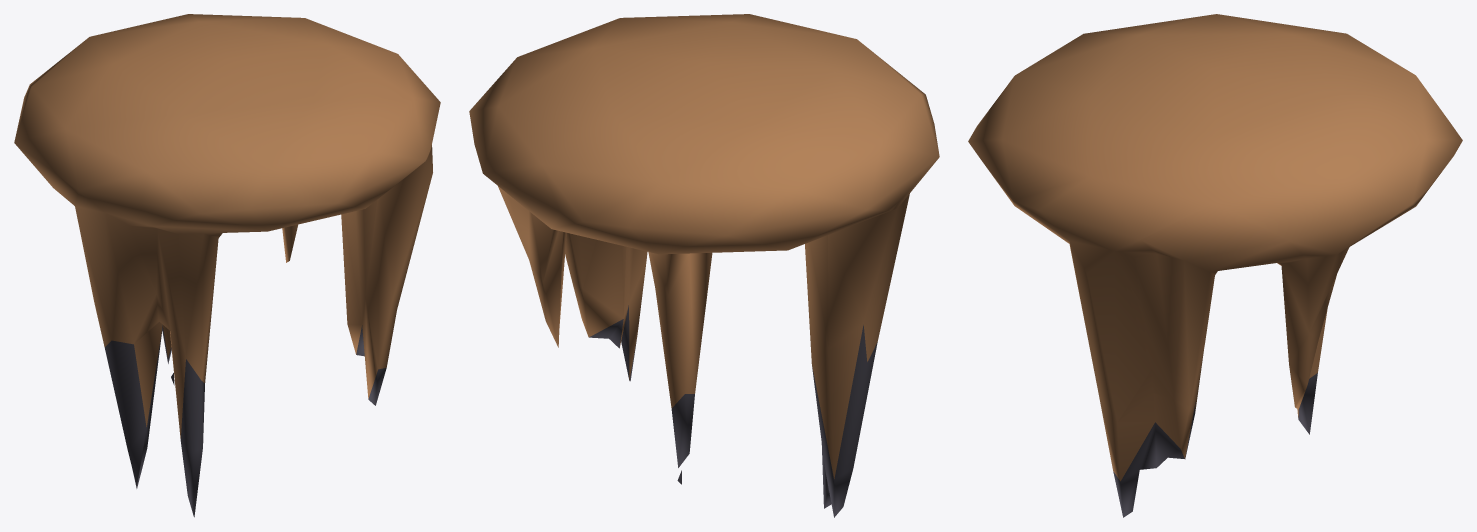
File: shore_stalactite_lod2.glb
The picture shows the model from 3 angles, left to right: view 1: azimuth 30°, elevation 25°; view 2: azimuth 150°, elevation 25°; view 3: azimuth 270°, elevation 25°; orthographic projection. The views are drawn at different scales.
Visible parts, largest first — view 1: shore_stalactite.001; view 2: shore_stalactite.001; view 3: shore_stalactite.001.
Part boxes in pixels (x1,y1,x2,y2): shore_stalactite.001: (14, 14, 440, 517); shore_stalactite.001: (469, 14, 939, 517); shore_stalactite.001: (968, 14, 1462, 517).
Size of the model in its own units: 2.29 by 2.49 by 2.39.
